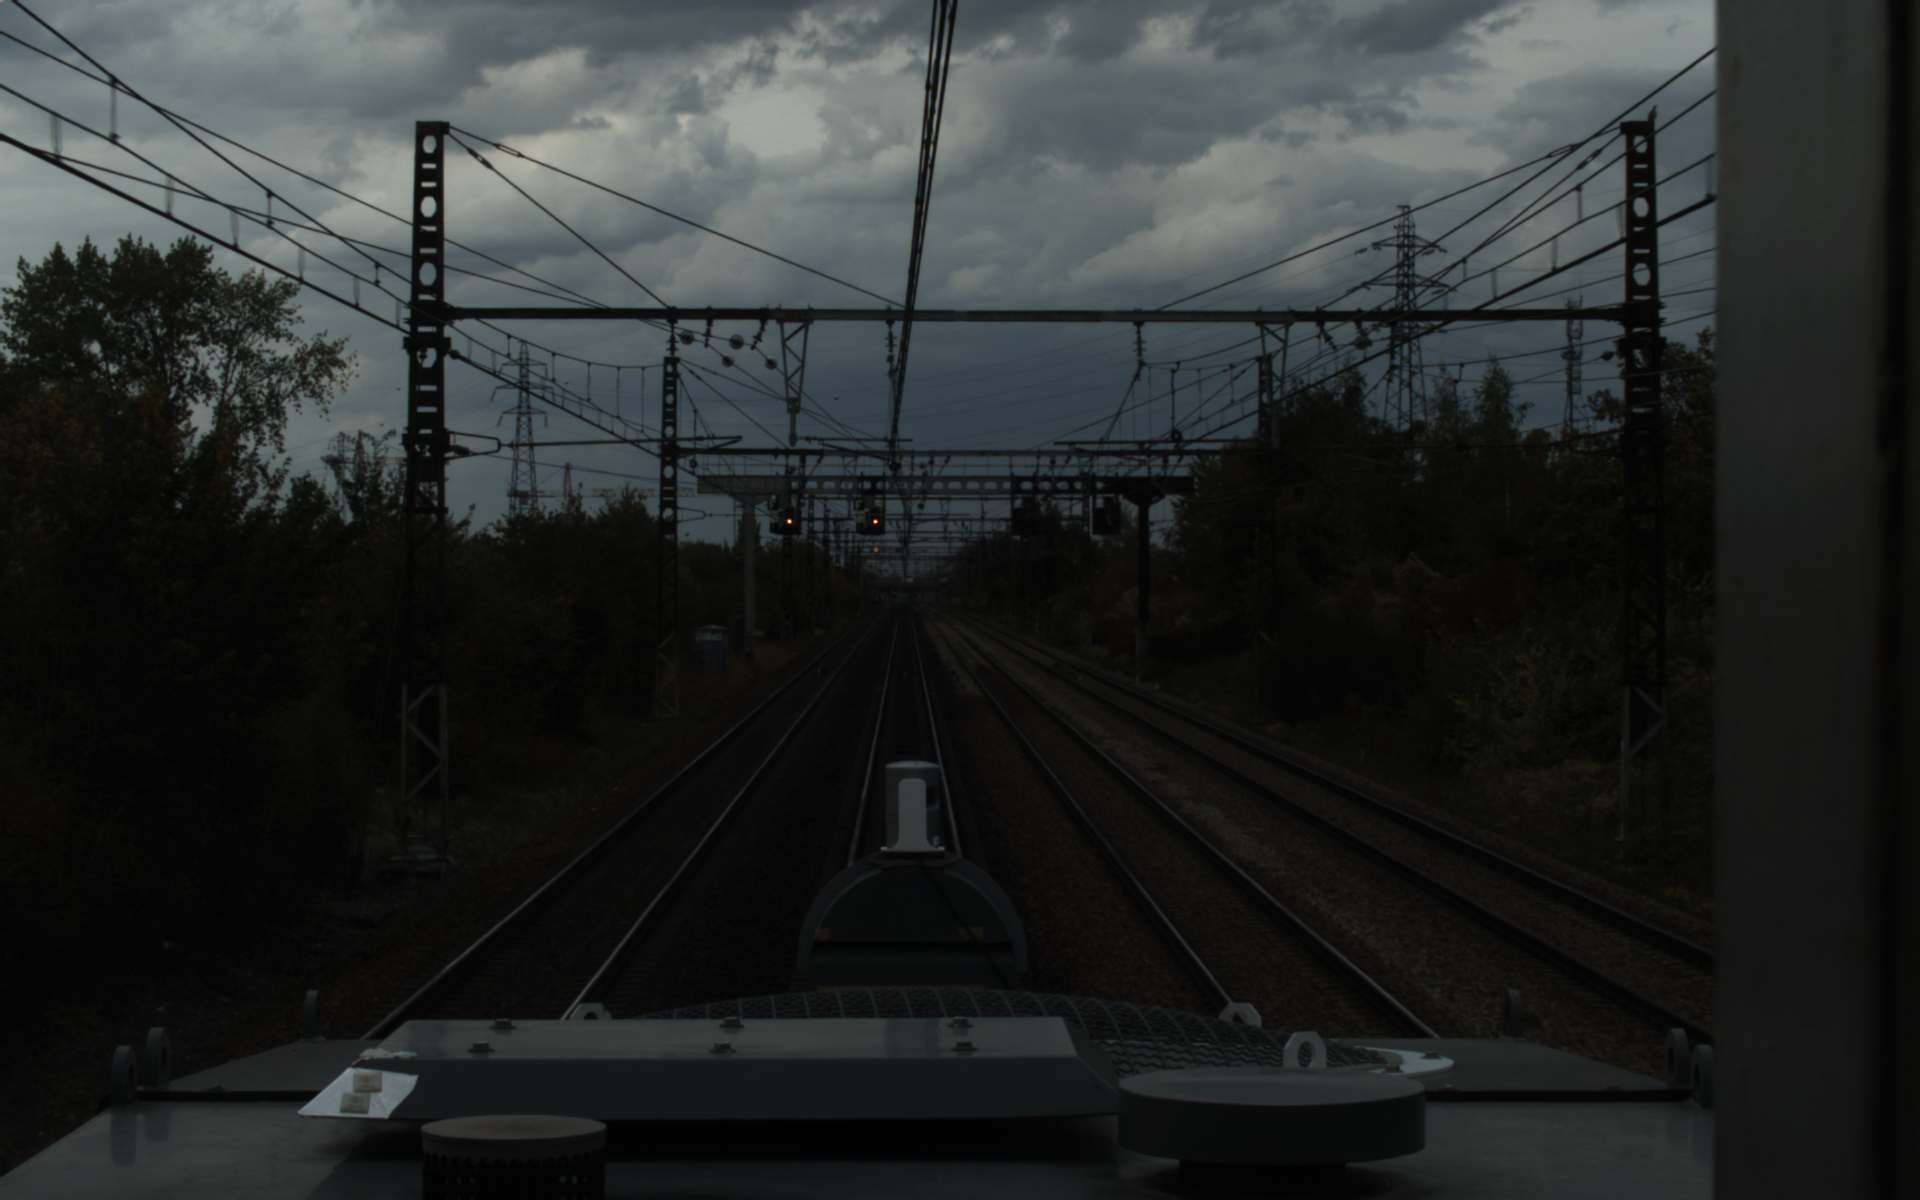Blinking: (865, 503, 883, 529)
Fixed: (781, 505, 798, 529)
